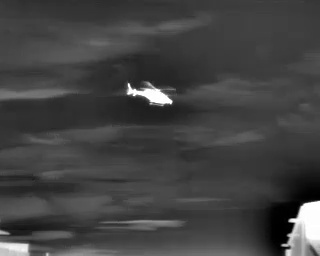HELICOPTER: (124, 75, 181, 114)
